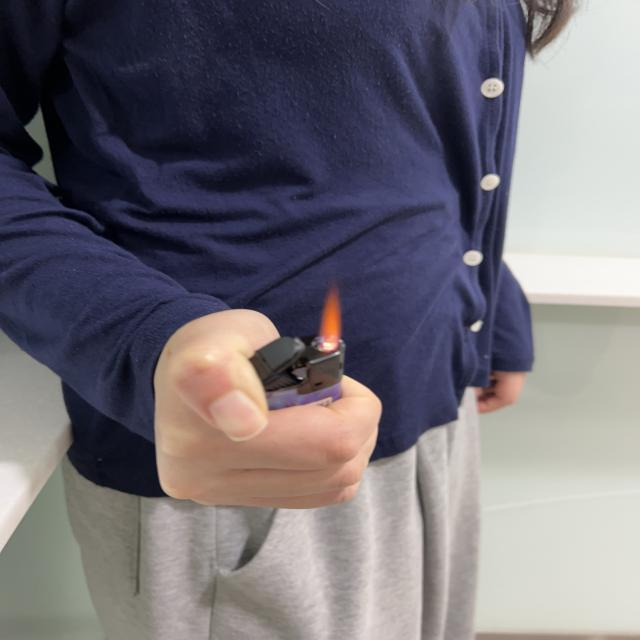fire: (320, 283, 346, 352)
